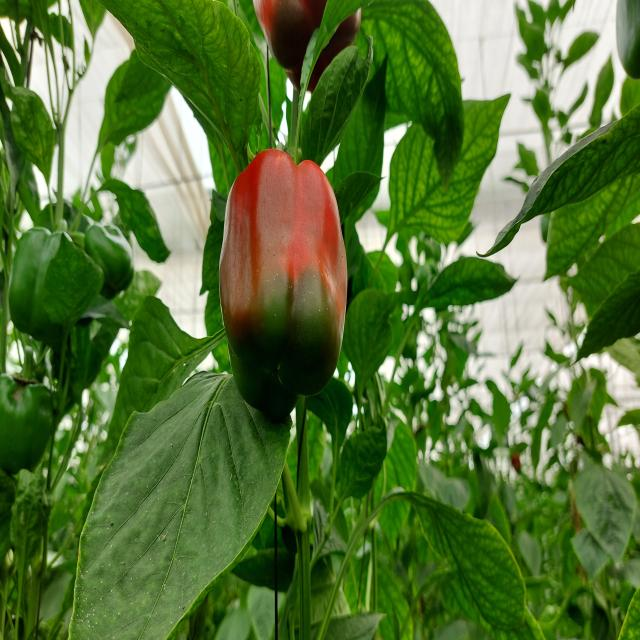BrownishRed--Can-be-Harvested: (216, 152, 352, 413)
